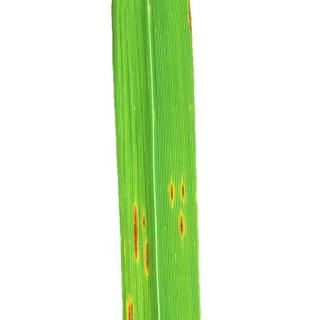Bercak-Cokelat-Sempit: (128, 201, 155, 277), (170, 178, 189, 242), (124, 293, 145, 320), (183, 0, 203, 28)
